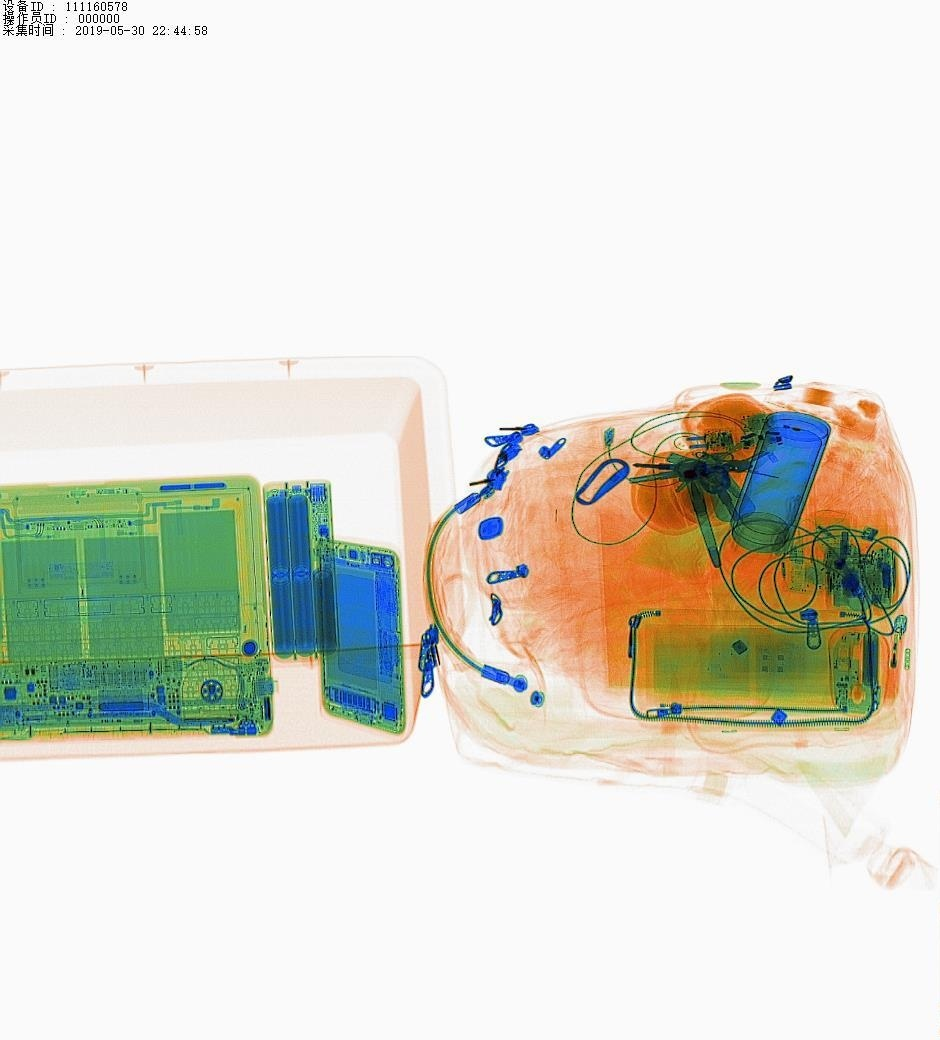NonmetallicFire: (876, 602, 913, 712)
